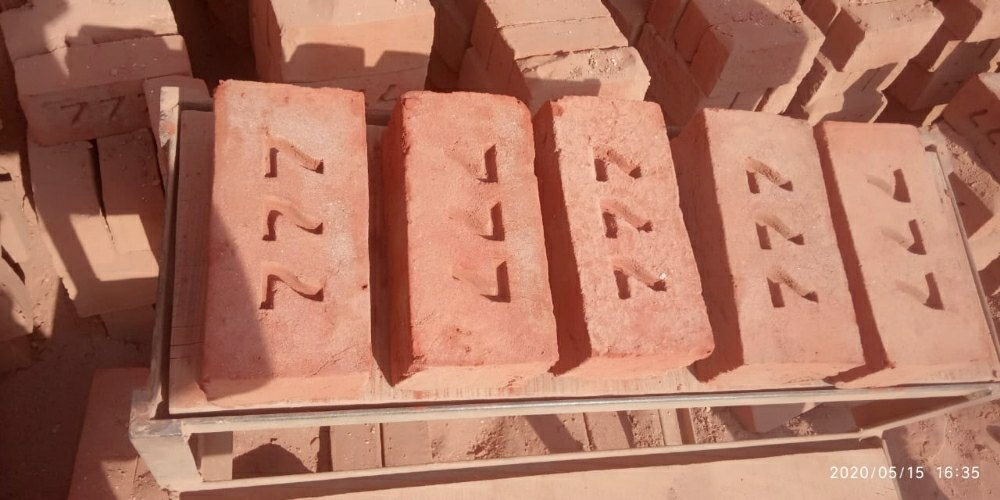brick: (200, 81, 368, 386), (404, 89, 562, 368), (824, 119, 1000, 366), (555, 96, 715, 355), (706, 104, 863, 365)
